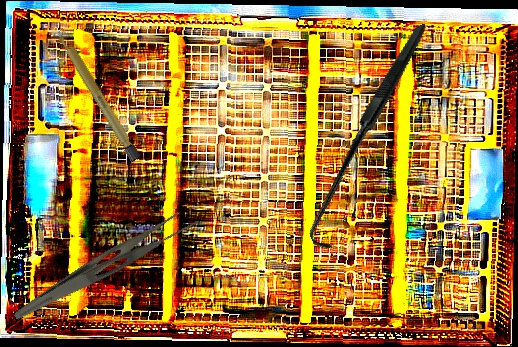Dressing Forceps: (12, 198, 200, 340)
Hook Surgical: (252, 23, 490, 253)
Scalpel Handle: (54, 27, 142, 163)
